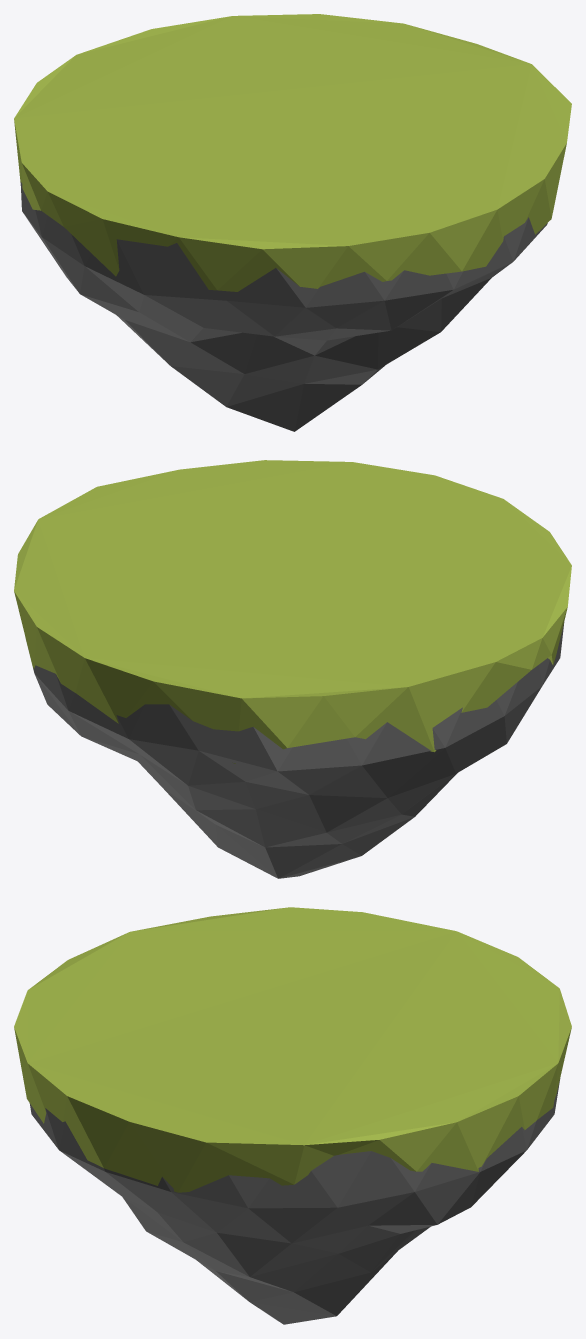
Rendered from Island [01].fbx.
3 views of the same model, one above another, from view 1: azimuth 30°, elevation 25°; view 2: azimuth 150°, elevation 25°; view 3: azimuth 270°, elevation 25° (orthographic).
Visible parts, largest first — view 1: Icosphere.001, Icosphere; view 2: Icosphere.001, Icosphere; view 3: Icosphere.001, Icosphere.
Boxes of the visible parts, bbox=[...] form: Icosphere.001: bbox=[14, 14, 571, 291]; Icosphere: bbox=[20, 182, 547, 431]; Icosphere.001: bbox=[14, 460, 571, 763]; Icosphere: bbox=[33, 622, 564, 878]; Icosphere.001: bbox=[14, 907, 571, 1192]; Icosphere: bbox=[29, 1078, 560, 1324].
Bounding box in the file's own units: 1034 × 603 × 1014.
